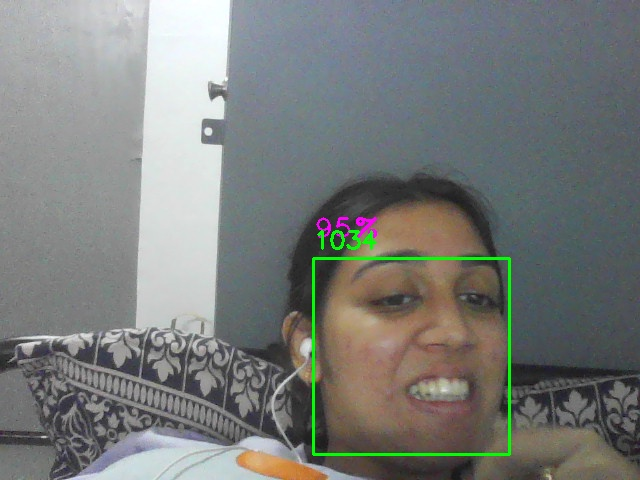real: (313, 258, 510, 455)
